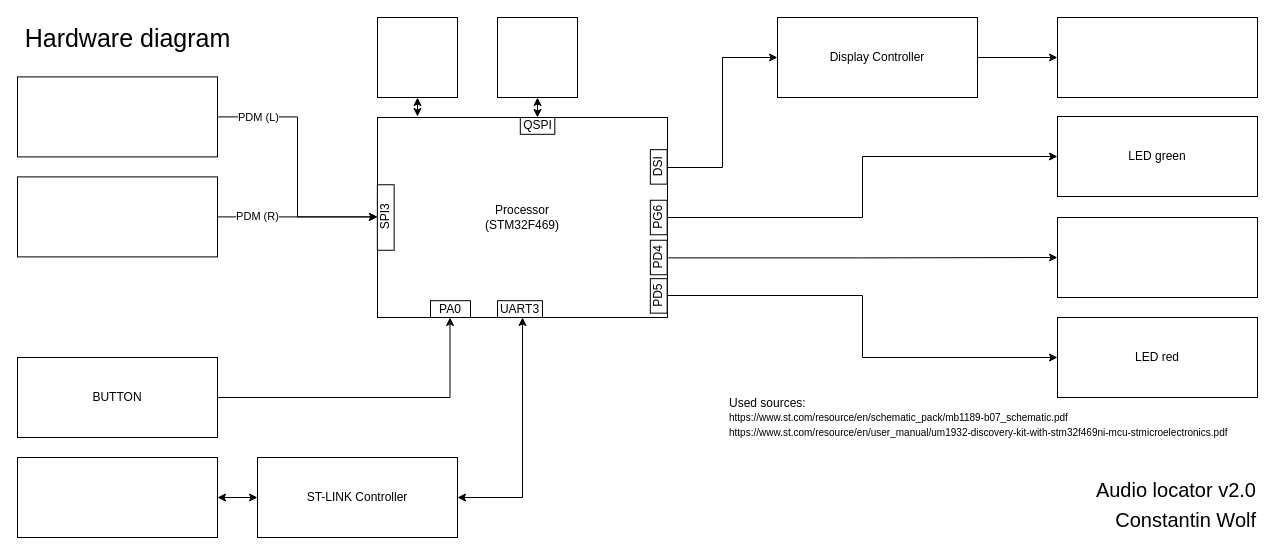
Image size: 1275x555. Some labels were removed from this diagram. The shapes that lost their labels are listed below. From the top down, each one's box as (x1, y1, x2, y2) in pixels, then its label:
(376, 16, 458, 98): XTAL
(496, 16, 578, 98): SDRAM
(1056, 16, 1258, 98): LCD
(16, 76, 218, 157): MEMS MIC 1
(16, 176, 218, 257): MEMS MIC 2
(1056, 216, 1258, 298): LED orange
(16, 456, 218, 538): USB Debug + Power
